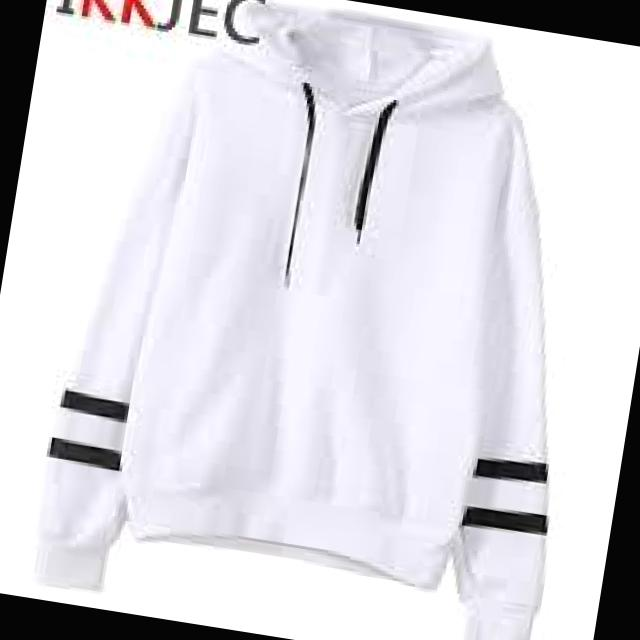sweater: (33, 0, 631, 640)
